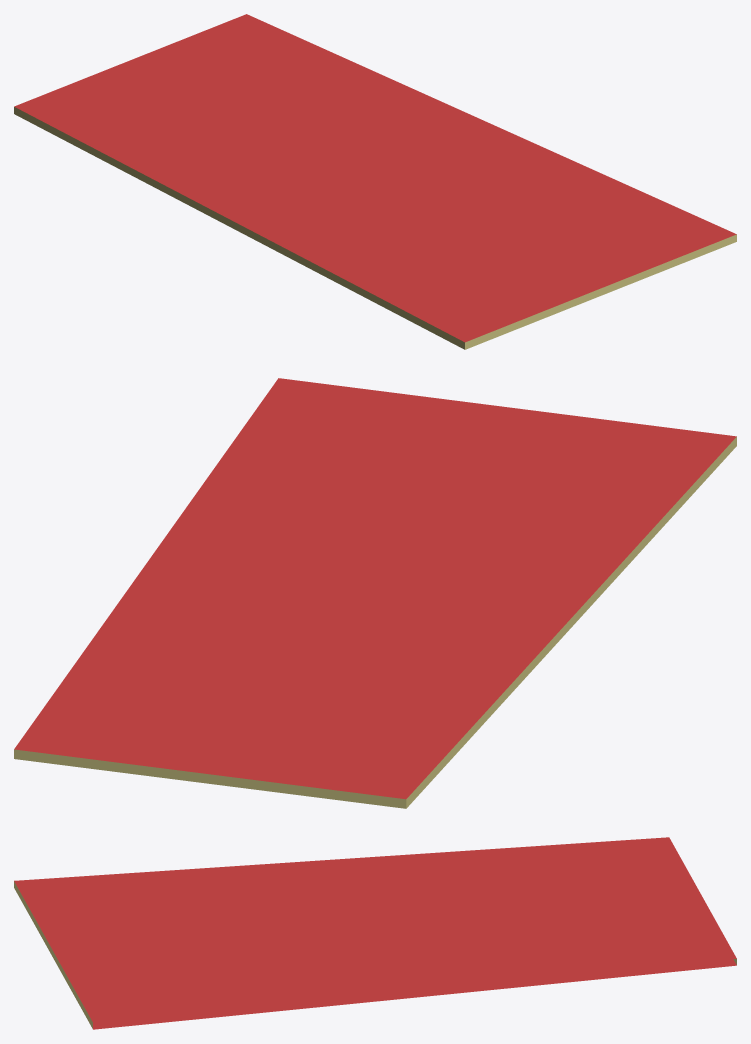
3 views of the same model, one above another, from view 1: azimuth 30°, elevation 25°; view 2: azimuth 150°, elevation 25°; view 3: azimuth 270°, elevation 25° (orthographic). The views are drawn at different scales.
Size of the model in its own units: 5.76 by 9.49 by 0.1.
